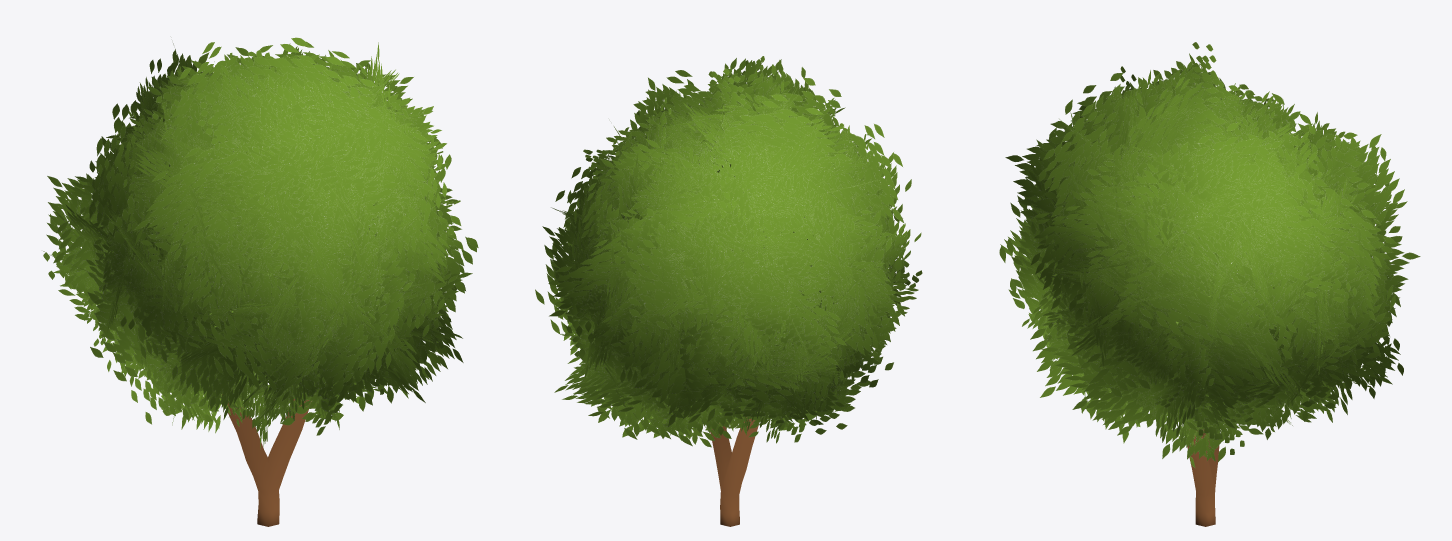
Rendered from ash trees.fbx.
3 views of the same model, side by side, from view 1: azimuth 30°, elevation 25°; view 2: azimuth 150°, elevation 25°; view 3: azimuth 270°, elevation 25° (orthographic). The views are drawn at different scales.
Parts seen in each view (by area): view 1: tree.003; view 2: tree.003; view 3: tree.003.
Part boxes in pixels (x1=…): tree.003: x1=43, y1=37, x2=478, y2=526; tree.003: x1=535, y1=56, x2=922, y2=526; tree.003: x1=999, y1=42, x2=1420, y2=526.
Bounding box in the file's own units: 567 × 707 × 621.
Materials: 2 (1 with a texture image).
